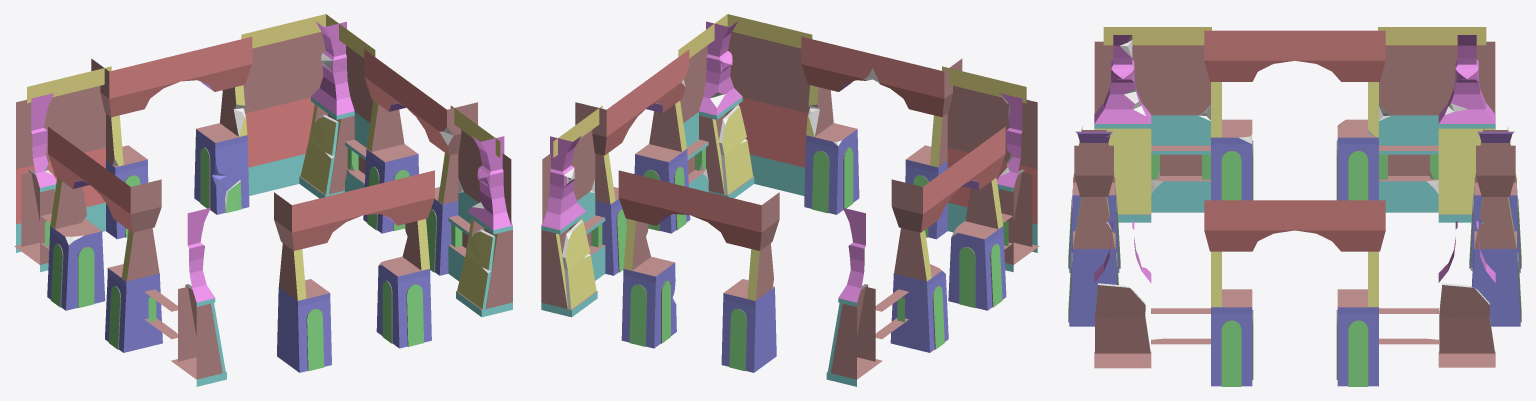
The model's file is SSQ_BRoom03.gltf.
3 views of the same model, side by side, from view 1: azimuth 30°, elevation 25°; view 2: azimuth 150°, elevation 25°; view 3: azimuth 270°, elevation 25° (orthographic). The views are drawn at different scales.
Visible parts, largest first — view 1: SSQ_BRoom03; view 2: SSQ_BRoom03; view 3: SSQ_BRoom03.
Part boxes in pixels (x1,y1,x2,y2): SSQ_BRoom03: (14, 14, 512, 386); SSQ_BRoom03: (541, 14, 1039, 386); SSQ_BRoom03: (1068, 27, 1521, 386).
Bounding box in the file's own units: 8.69 × 3.89 × 8.69.
